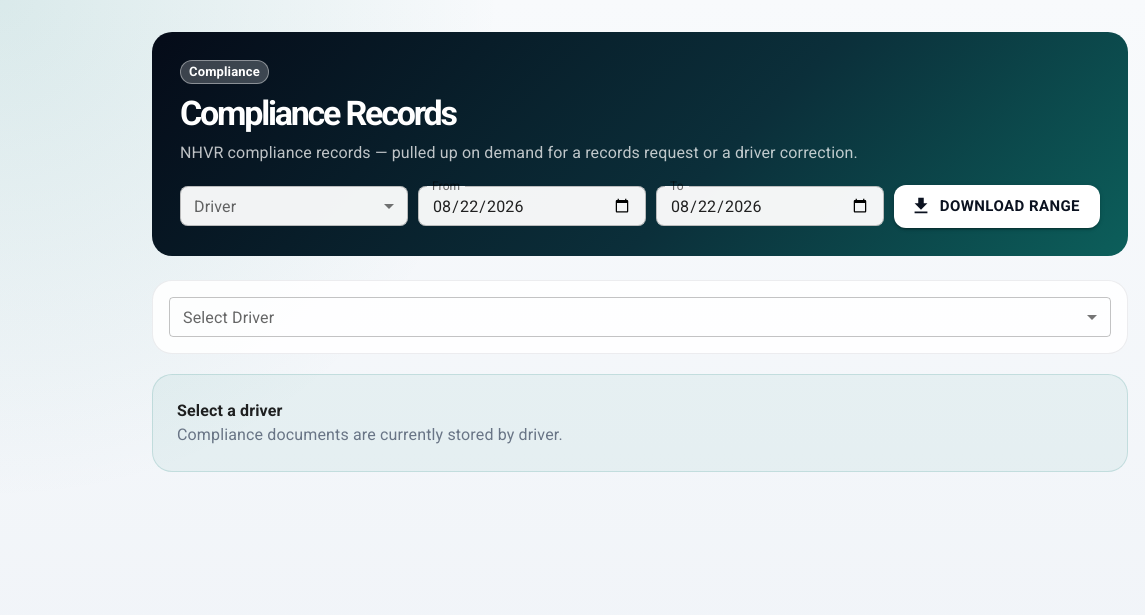
Test case: admin WorkDiary — driver history section › PASS: history records only show Download and Delete — no Approve/Reject
The image size is (1145, 615).
Expected: the text "Select a driver" is shown, 177,400 -> 282,420
Click the dropdown named "Select Driver" next to "Select Driver" at point(640, 316), box 169,296 -> 1111,336
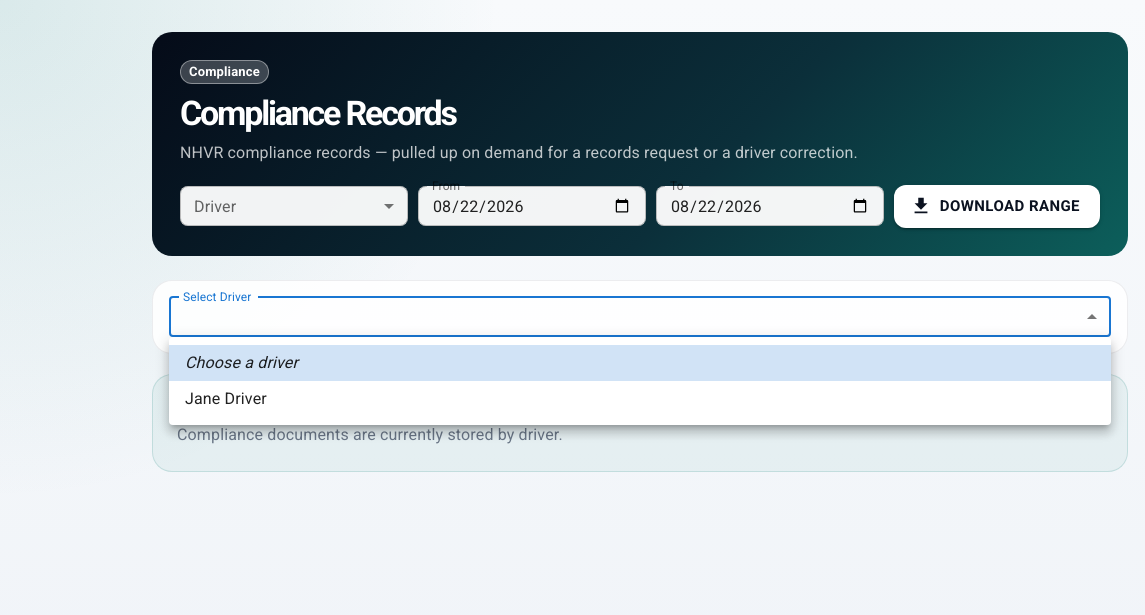
Click the option "Jane Driver" at point(226, 398), box 185,389 -> 267,408
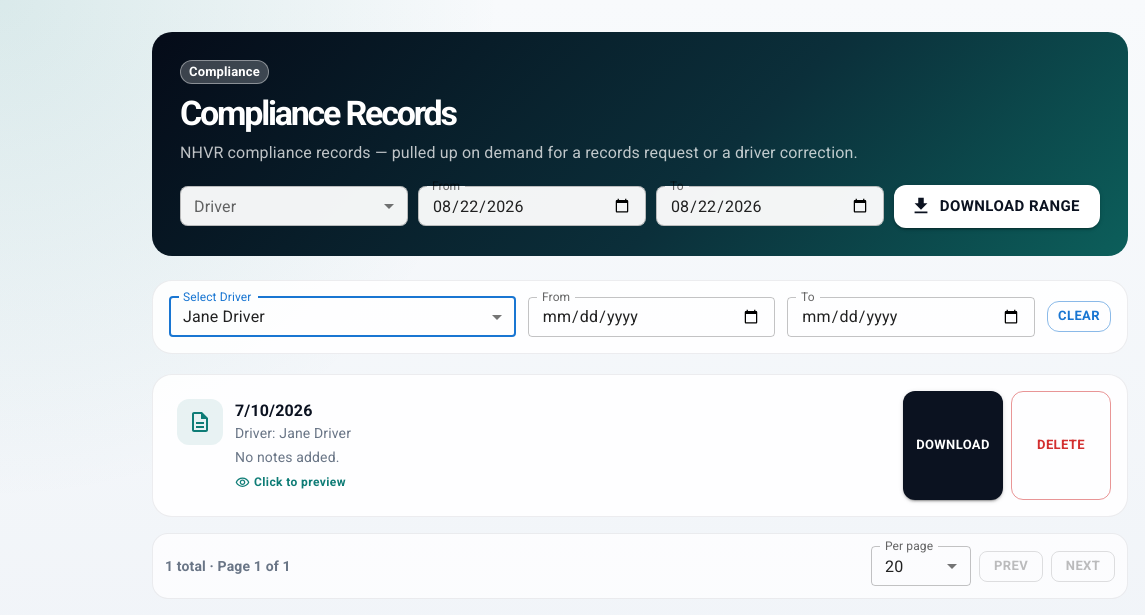
Expected: the button "Download" is shown, 903,390 -> 1003,500
Expected: the button "Delete" is shown, 1011,390 -> 1111,500
